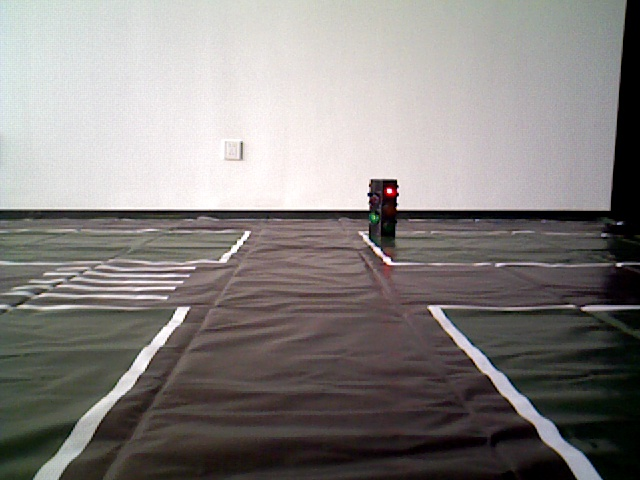red: (367, 176, 397, 241)
